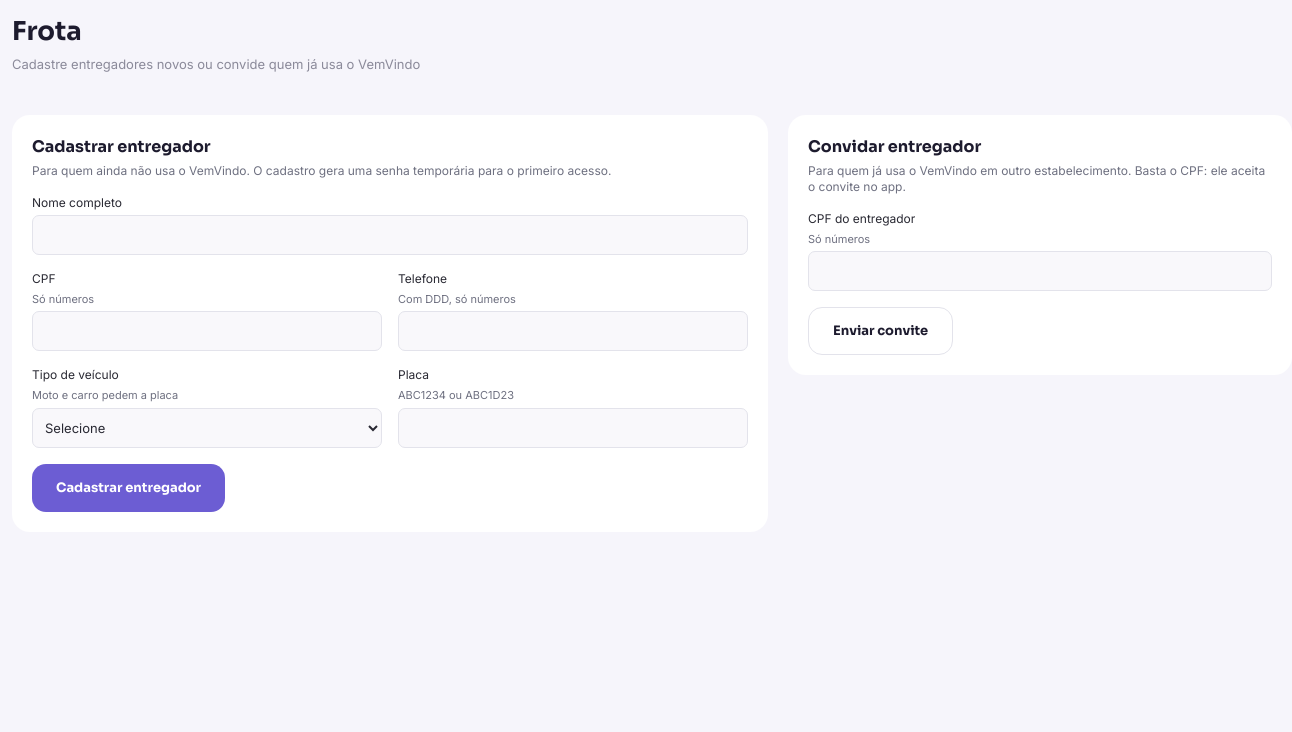
Test: PaginaFrota › mostra o erro do backend sem oferecer convite nos outros casos
The width and height of the screenshot is (1292, 732).
Type "Joana Lima" into the field labelled "Nome completo" at (390, 234), box [32,214,748,254]
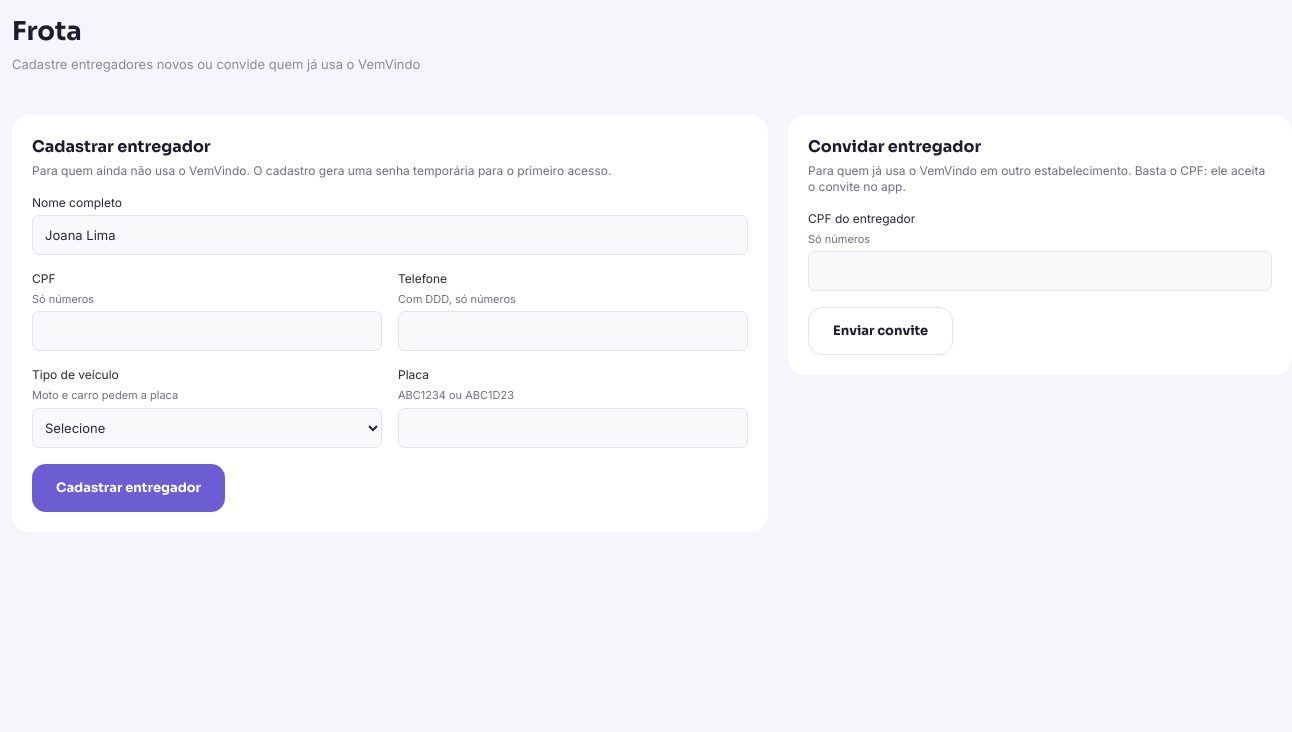
Type "529.982.247-25" into the field labelled "CPF" at (207, 331), box [32,311,382,351]
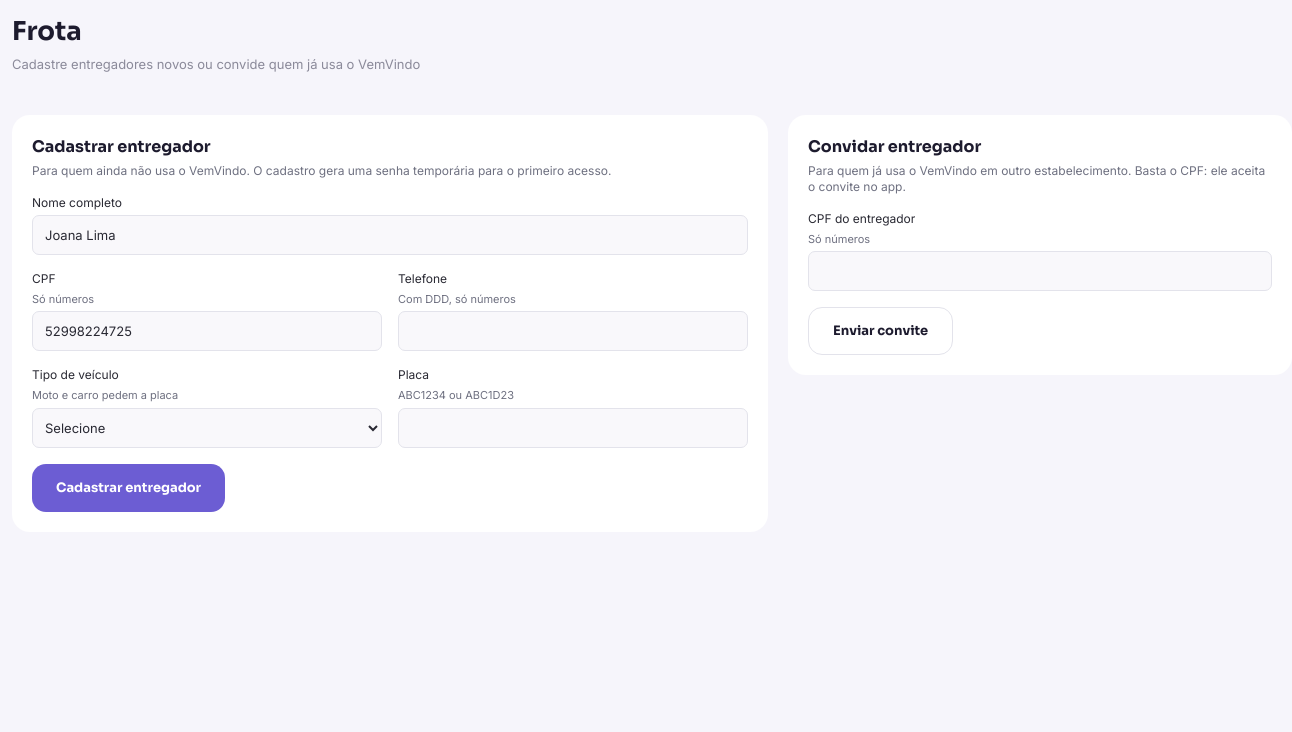
Type "(61) 98888-7777" into the field labelled "Telefone" at (573, 331), box [398,311,748,351]
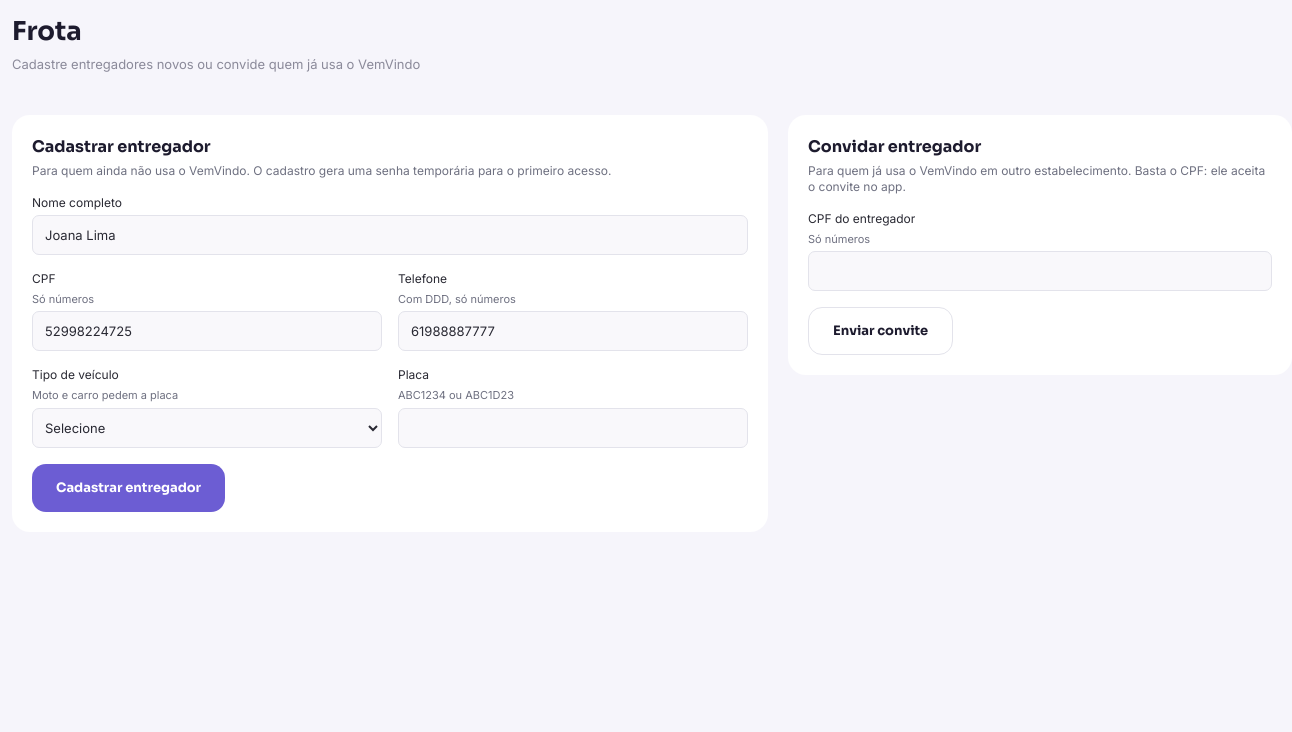
Select "Moto" in the dropdown labelled "Tipo de veículo" at (207, 428), box [32,408,382,448]
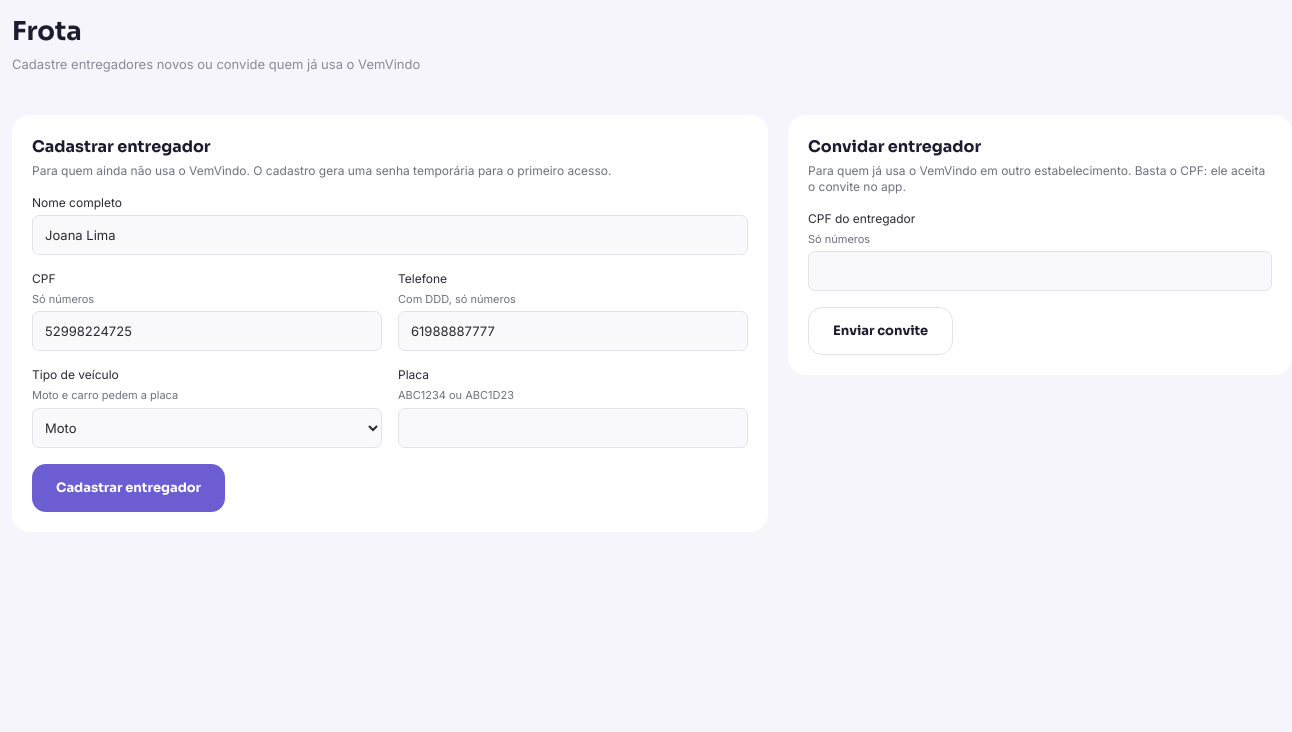
Type "abc-1d23" into the field labelled "Placa" at (573, 428), box [398,408,748,448]
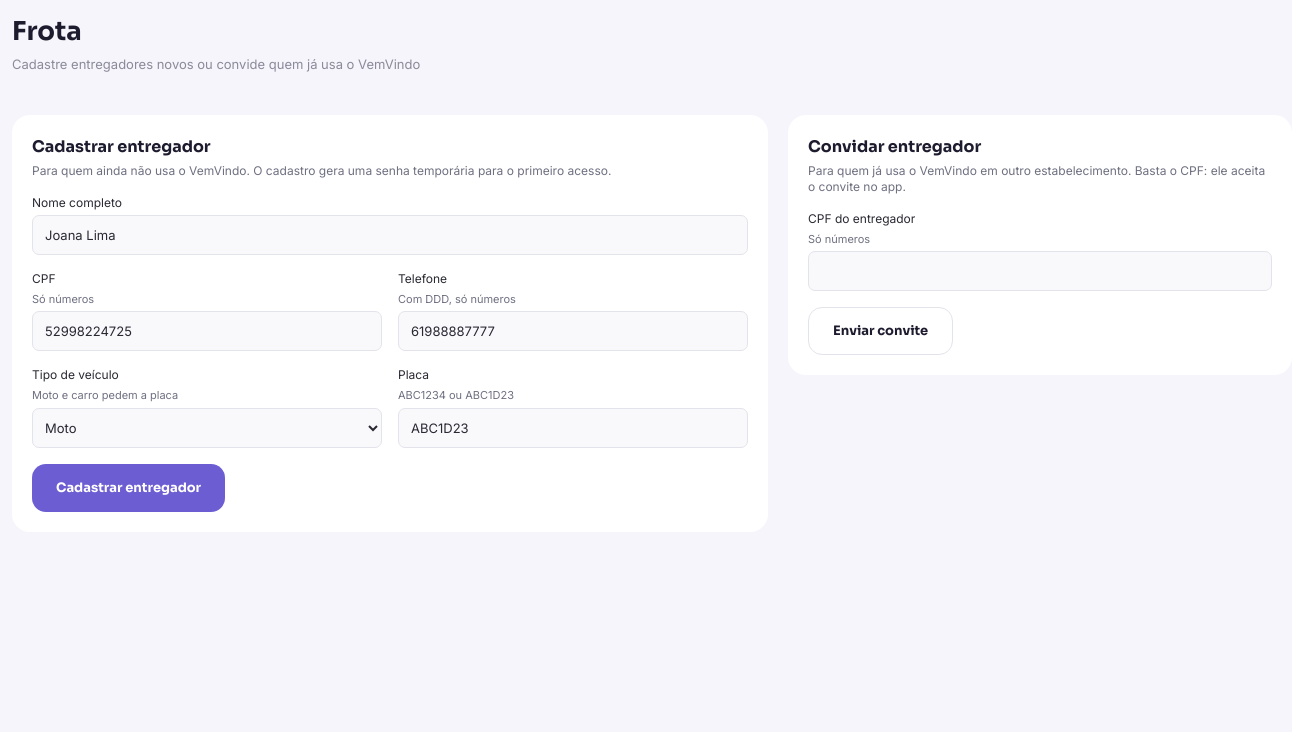
Click the button "Cadastrar entregador" at (129, 488), box [32,464,225,512]
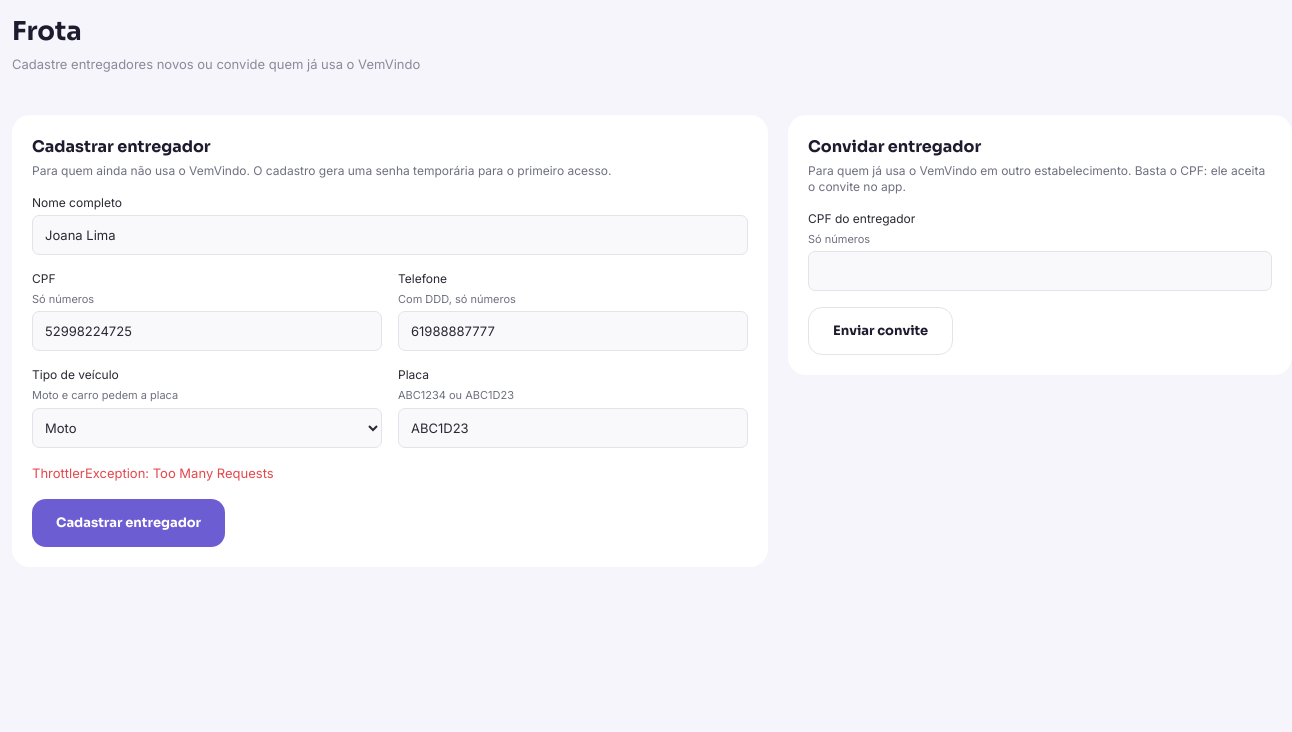
Check: the message shows "Too Many Requests", box [32,464,274,480]
